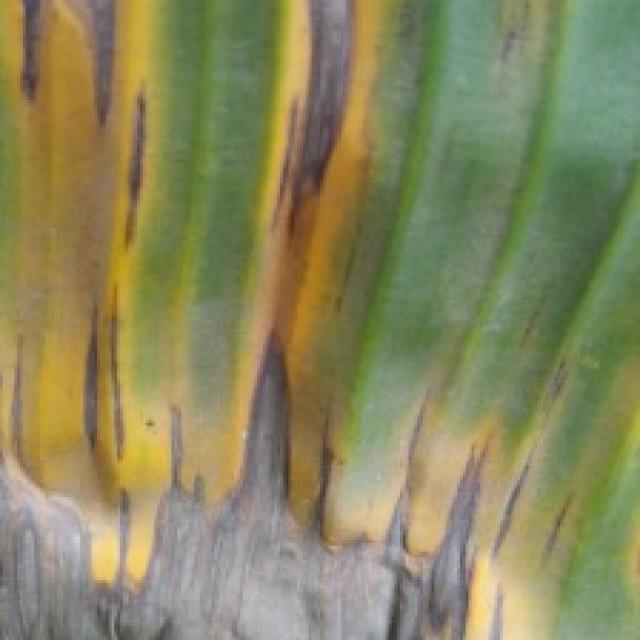Early_leaf_spot: (195, 0, 441, 592), (0, 0, 208, 611), (392, 374, 634, 640), (454, 0, 576, 114)
